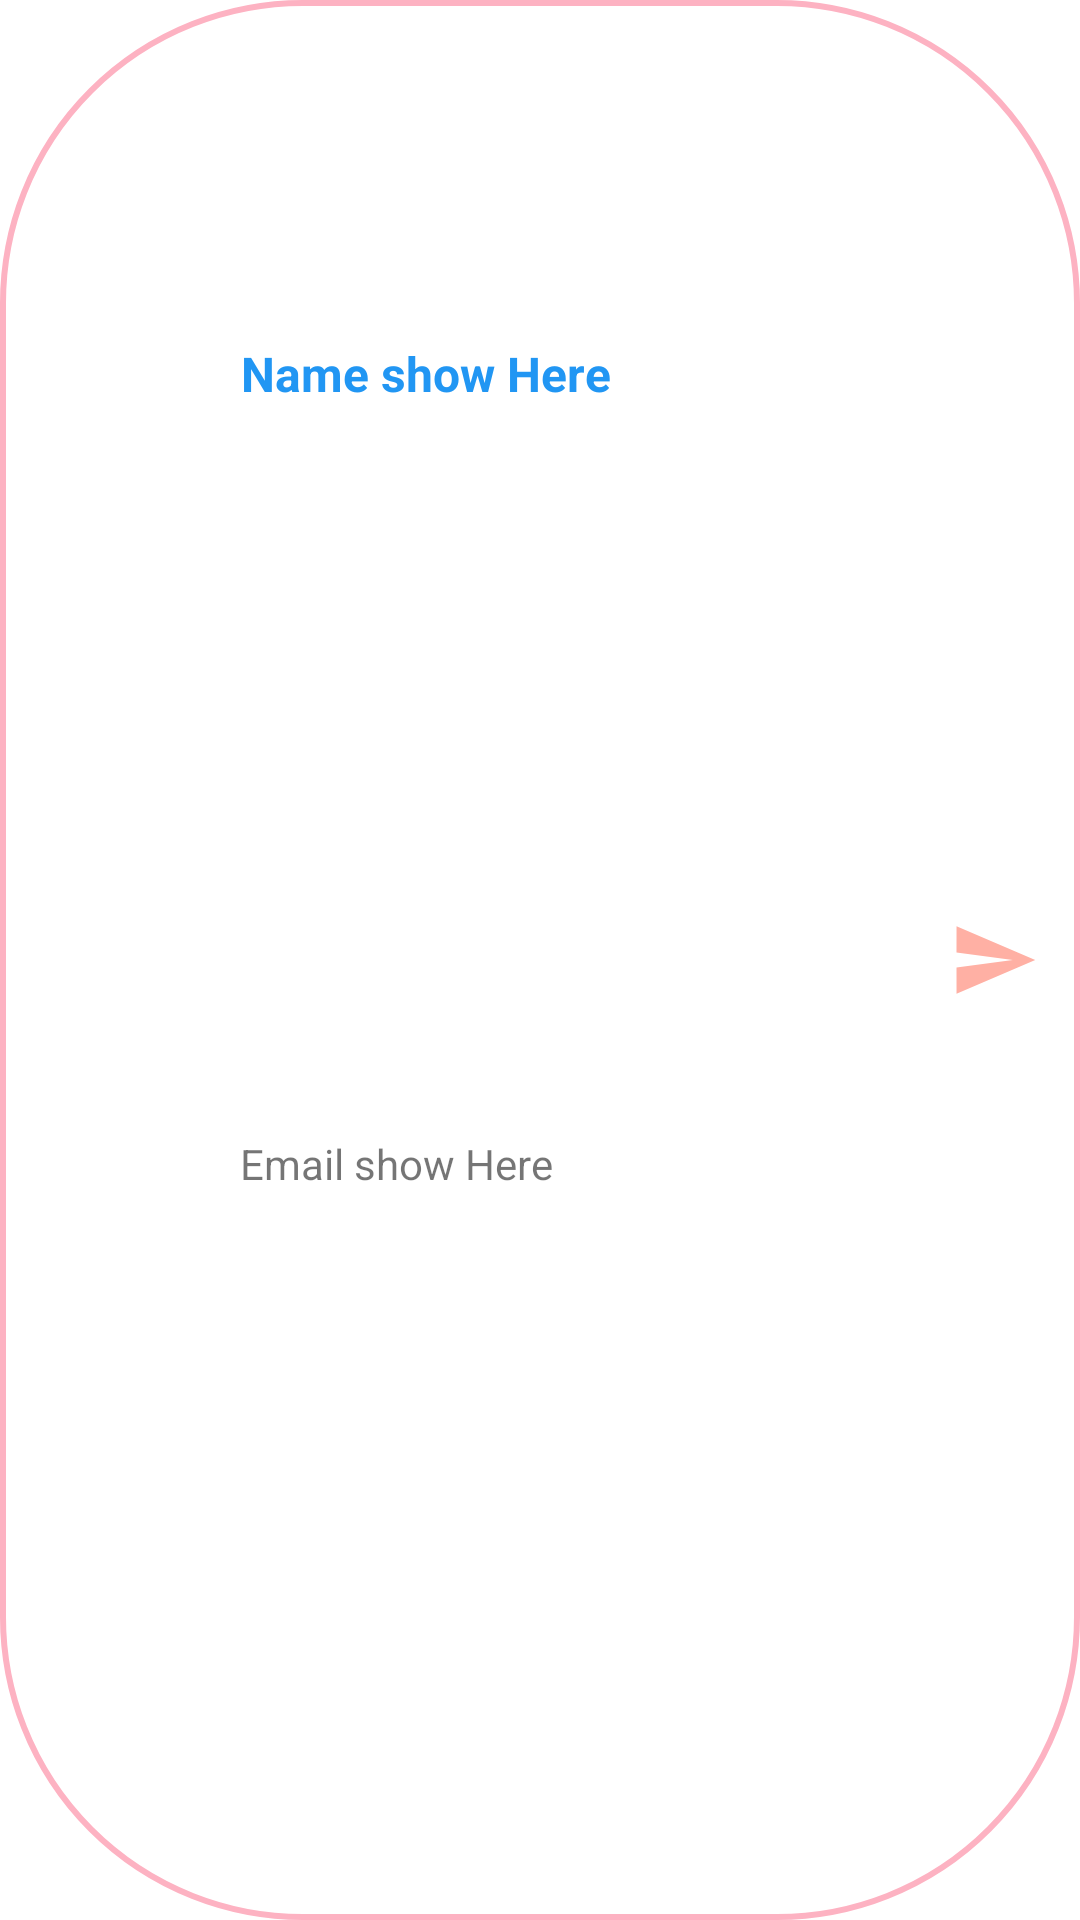

Icon click points for this 1080x1920 phone screenshot, format point (x, y):
send: point (995, 960)
